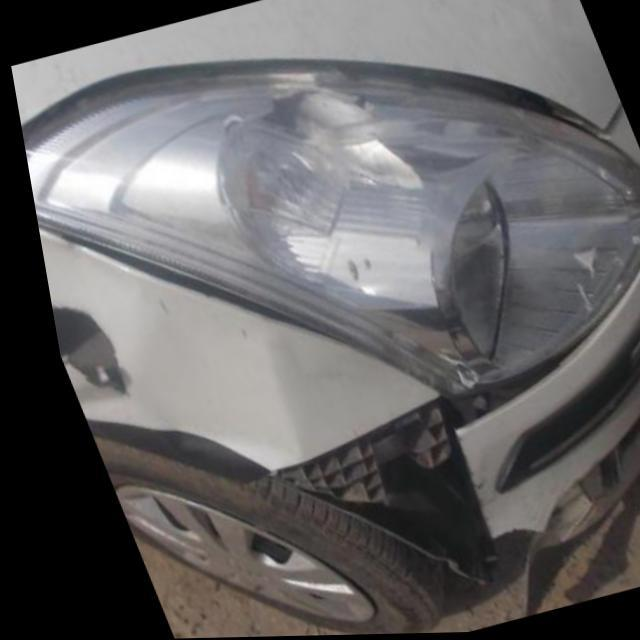crack: (41, 305, 123, 395)
no part: (257, 335, 589, 589)
